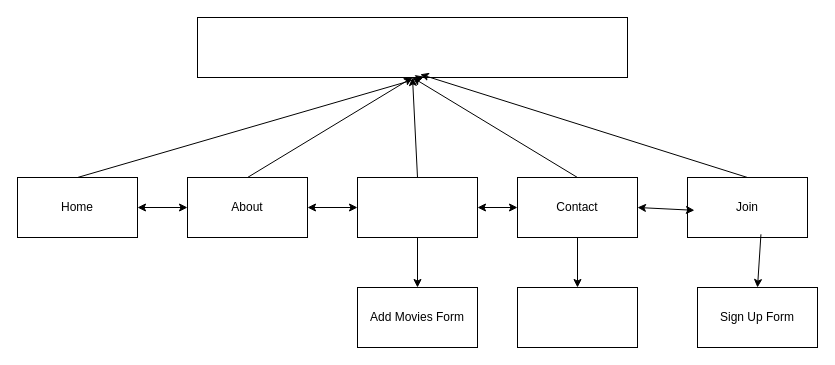
Image size: 835x365. Some labels were removed from this diagram. The shapes that lost their labels are listed below. From the top down, each one's centre as x and y in pixels, then its label:
At pixel 412 47: "Folder".
At pixel 417 207: "Events".
At pixel 577 317: "Discord Link Instagram Link".
